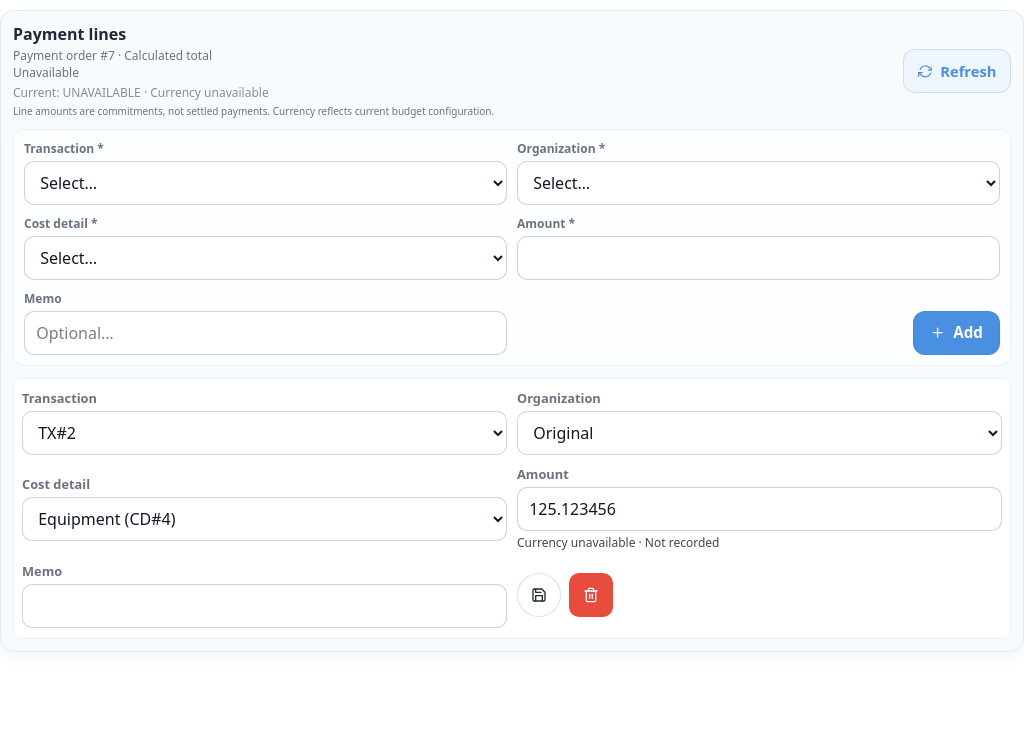
DELETE shows all recipient conflicts and refresh preserves a rejected edit
Select "Proposed" in the dropdown named "Organization for line 81" at (760, 433), box [517,411,1002,455]
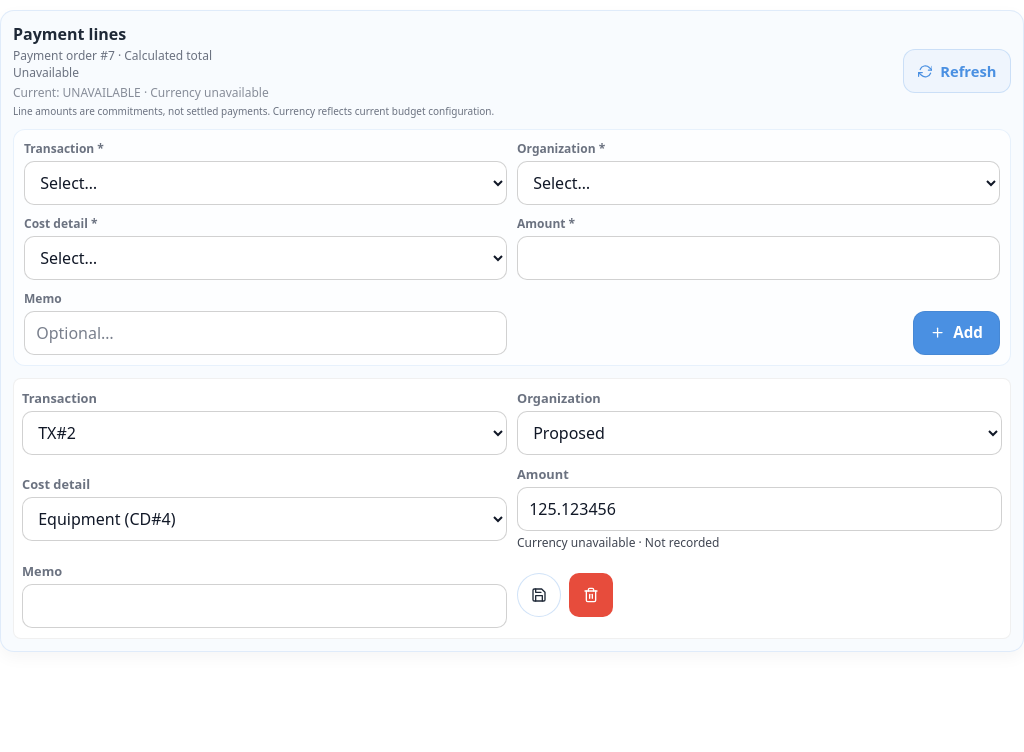
Click the button titled "Delete line".
click(591, 595)  # box [569,573,613,617]
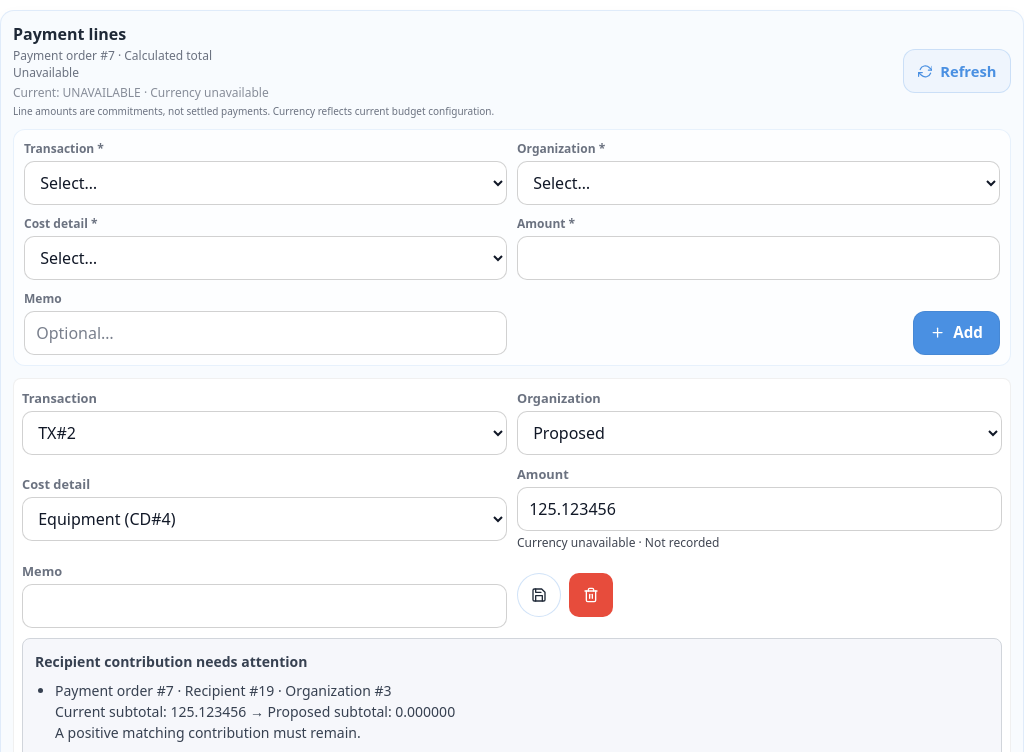
Now the list item "Recipient #19" is shown, box [55,681,455,742]
Now the text "Current subtotal: 125.123456 → Proposed subtotal: 0.000000" is shown, box [55,702,455,721]
Click the button titled "Refresh lines".
click(957, 71)  # box [903,49,1011,93]
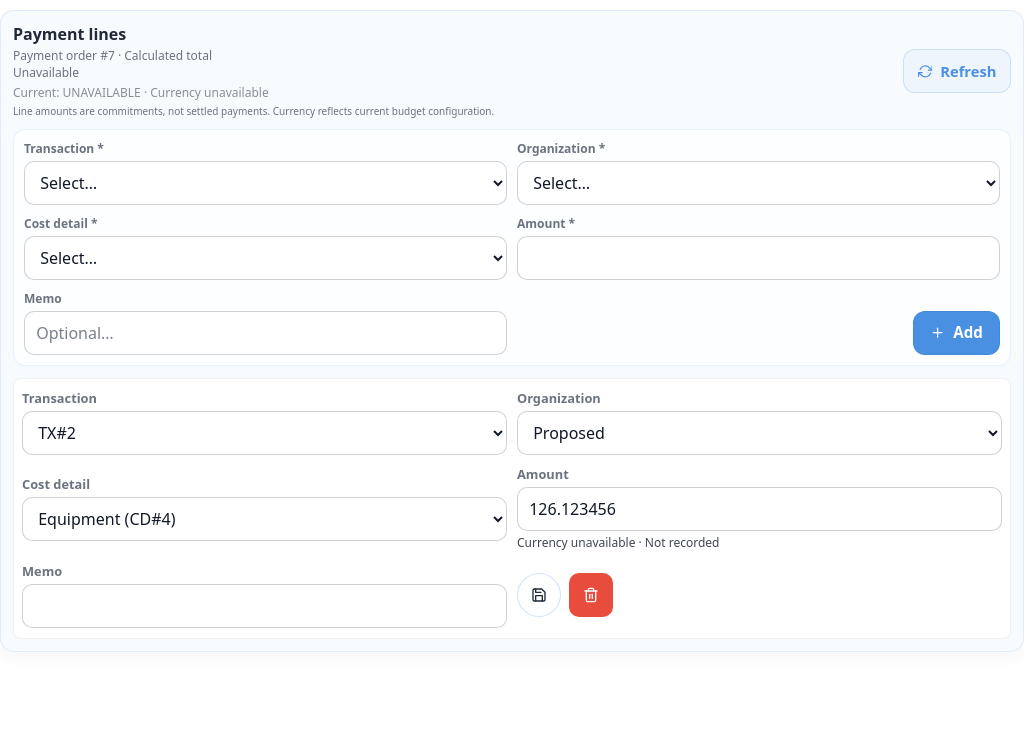
Now the number field named "Amount for line 81" holds "126.123456", box [517,487,1002,531]
Click the button titled "Refresh lines".
click(957, 71)  # box [903,49,1011,93]
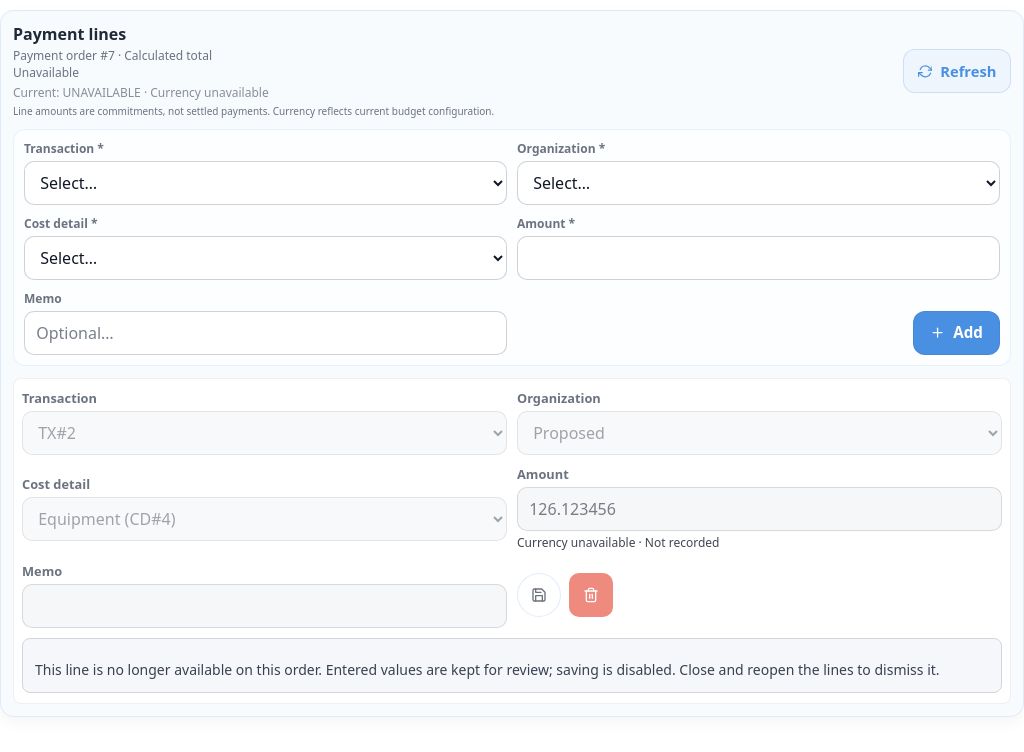
Now the text "This line is no longer available" is shown, box [35,660,940,679]
Now the dropdown named "Organization for line 81" is disabled, box [517,411,1002,455]
